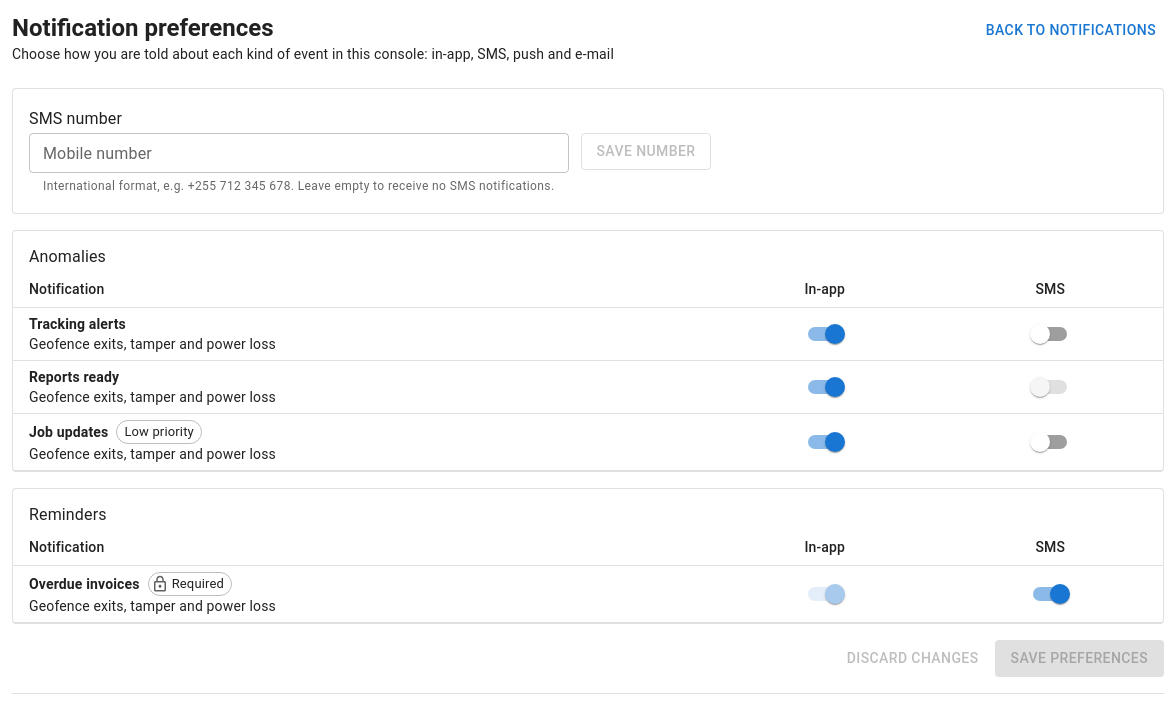
Test: NotificationPreferencesPage › shows MANDATORY_CHANNEL refusals from the server
Click the switch named "Tracking alerts: in-app" at (835, 334), box [825,324,845,344]
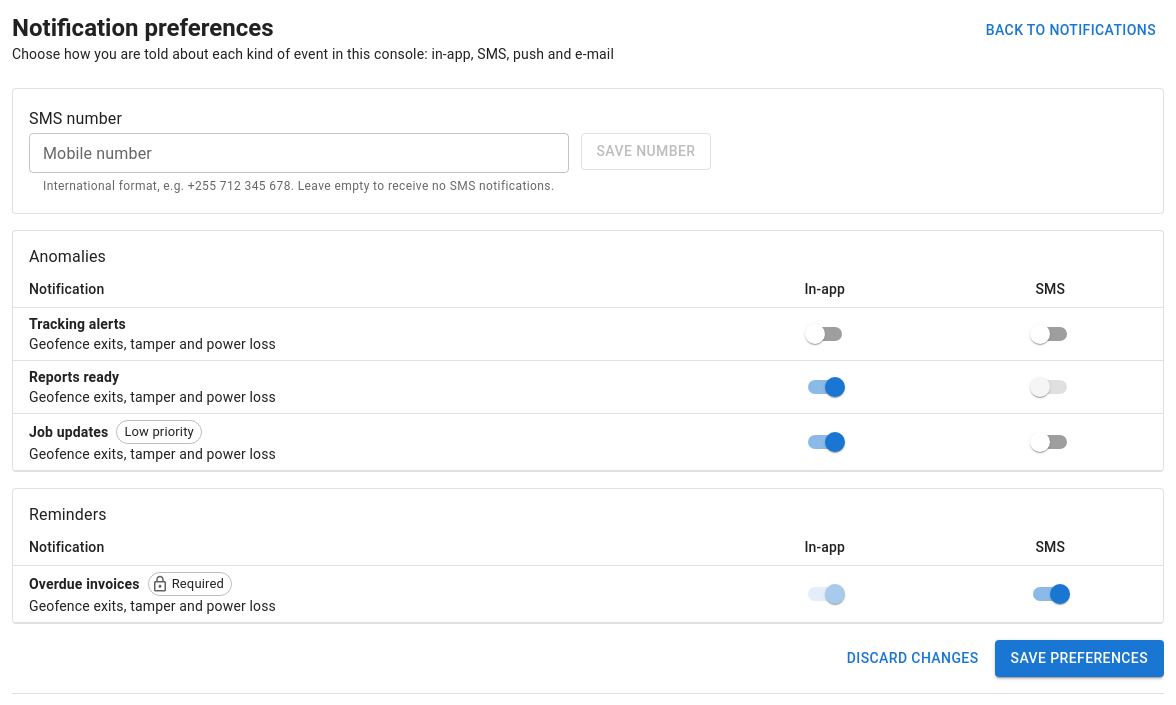
Click the button "Save preferences" at (1079, 658), box [994,640,1164,676]
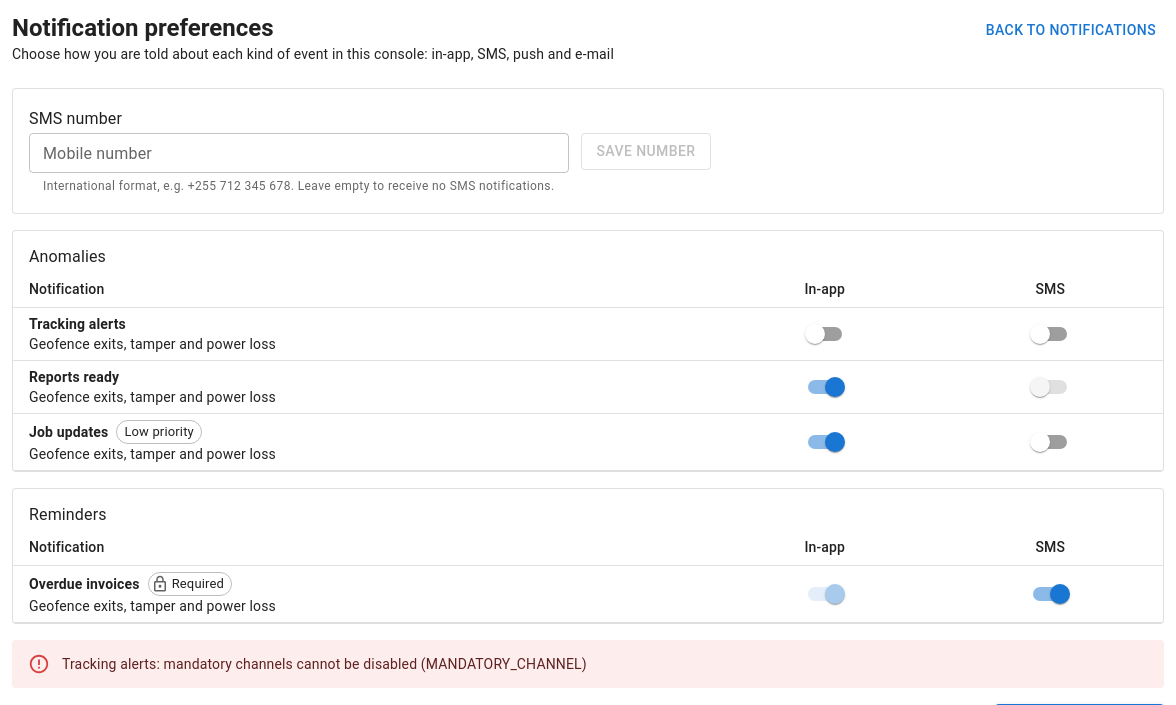
Check: the text "Tracking alerts: mandatory channels cannot be disabled (MANDATORY_CHANNEL)" is shown, box [62,656,587,672]
